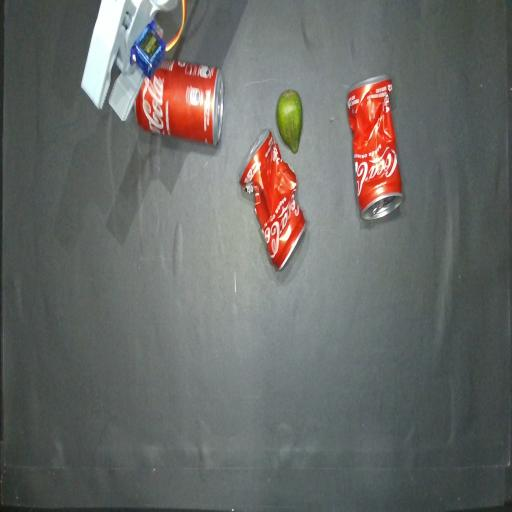higo: (276, 91, 302, 154)
lata: (134, 59, 223, 145)
lata_defectuoso: (240, 131, 306, 269), (347, 75, 402, 219)
